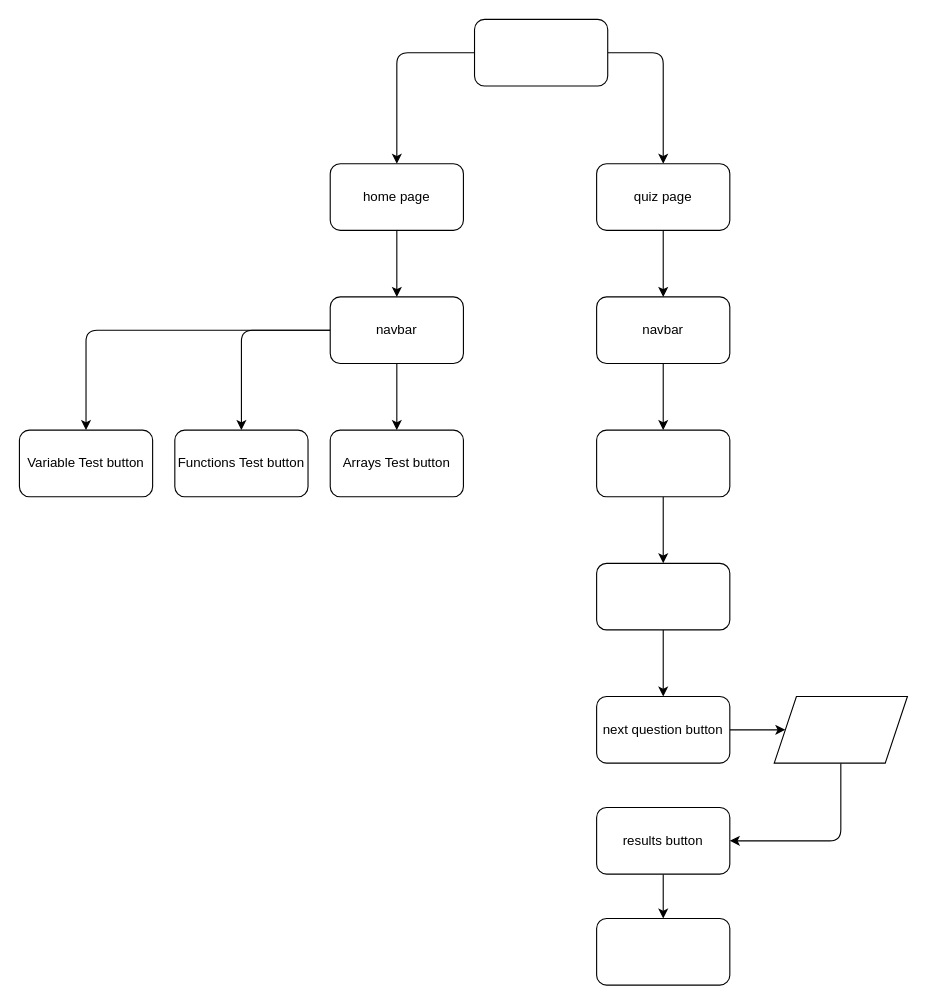
This 927x1005 diagram has some shape labels left out. Here are the shapes that lost their labels. From the top down, the box of each, then its label:
(473, 18, 608, 86): components
(596, 429, 730, 497): quiz data
(596, 562, 730, 630): render question
(773, 695, 907, 763): Count of 5 questions then show results button
(596, 917, 730, 985): render results
